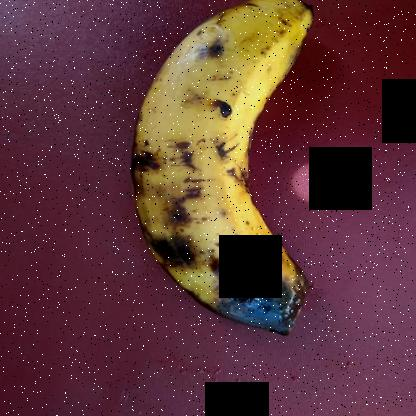overripe: (92, 0, 333, 259)
rotten: (115, 195, 350, 350)
